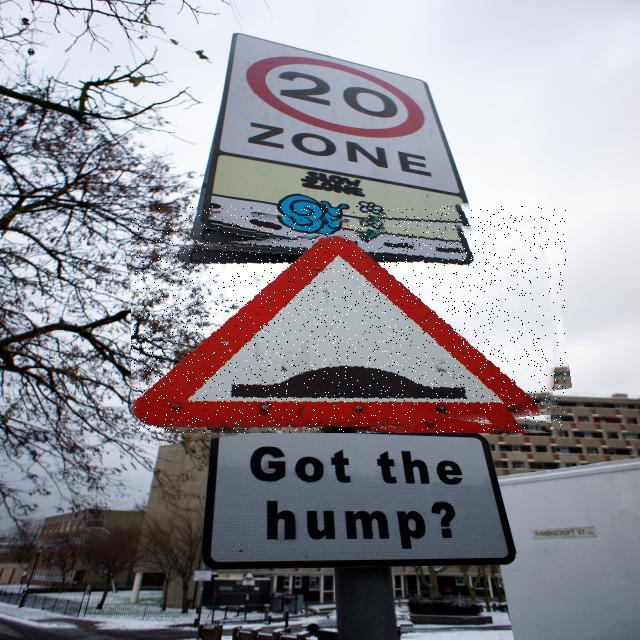hump: (131, 206, 566, 433)
